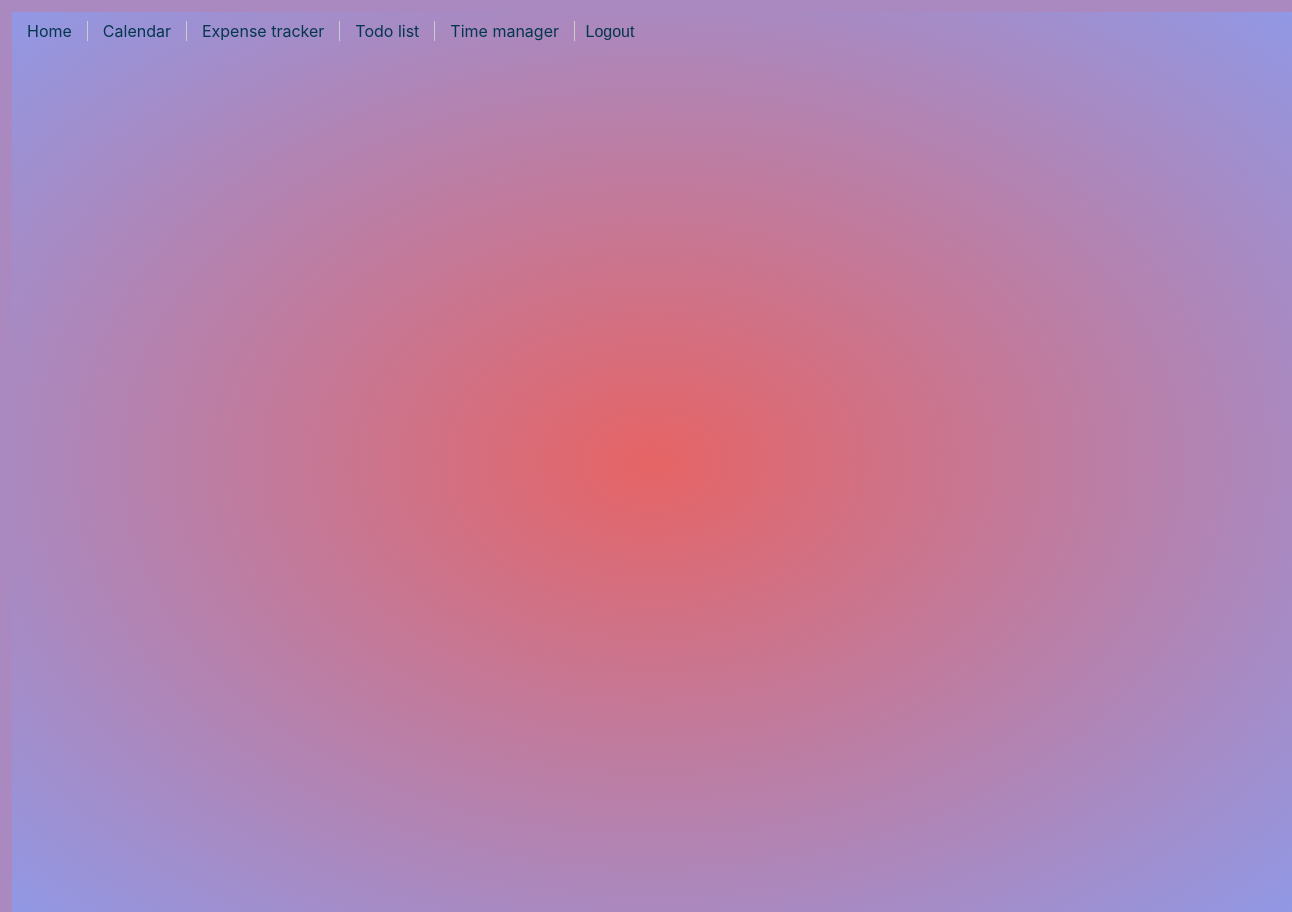
failed logout leads to displaying error message
Click the button "Logout": (610, 32) [575,12,645,52]
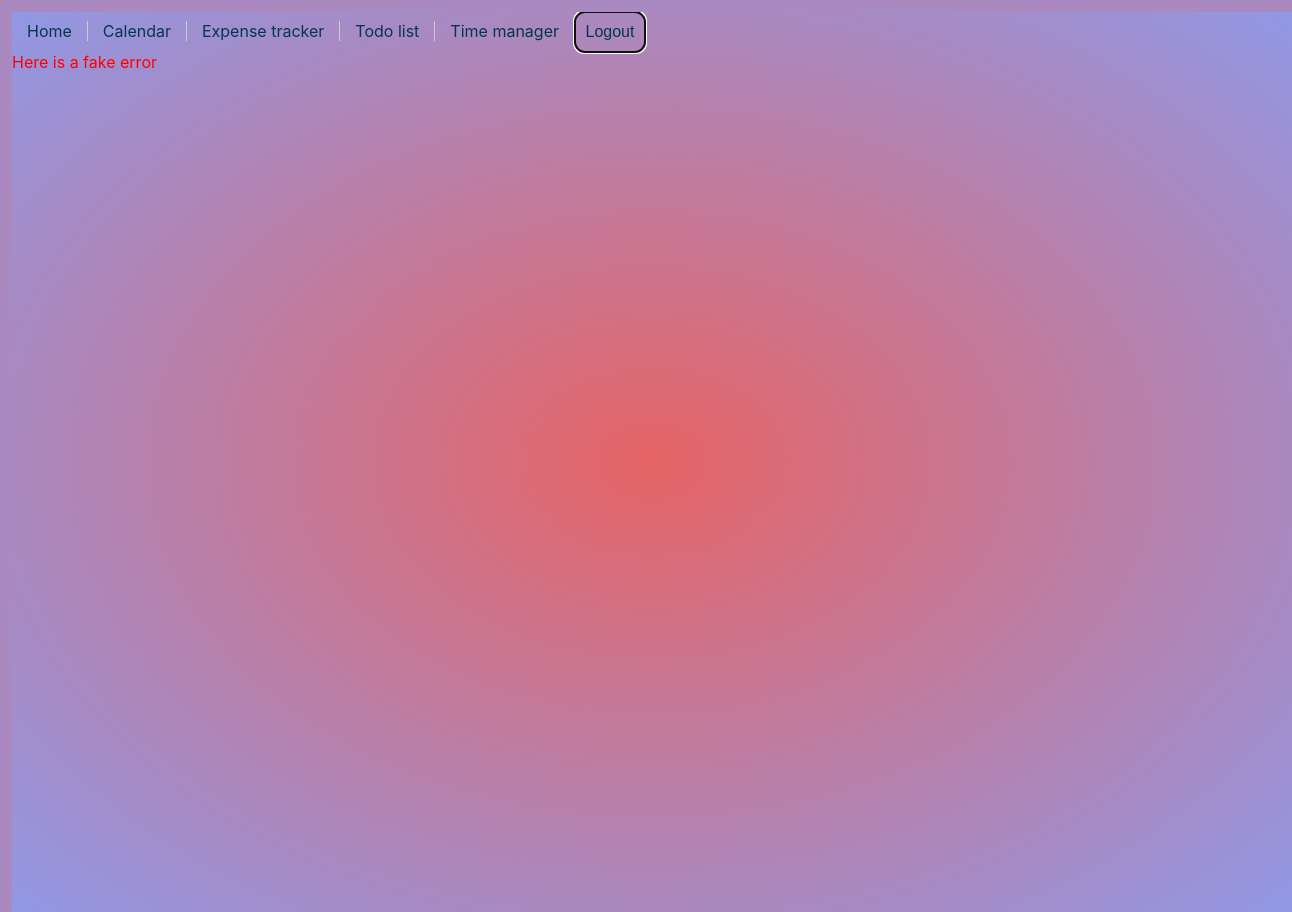
Expected: the text "Here is a fake error" is shown, [12,52,157,72]
